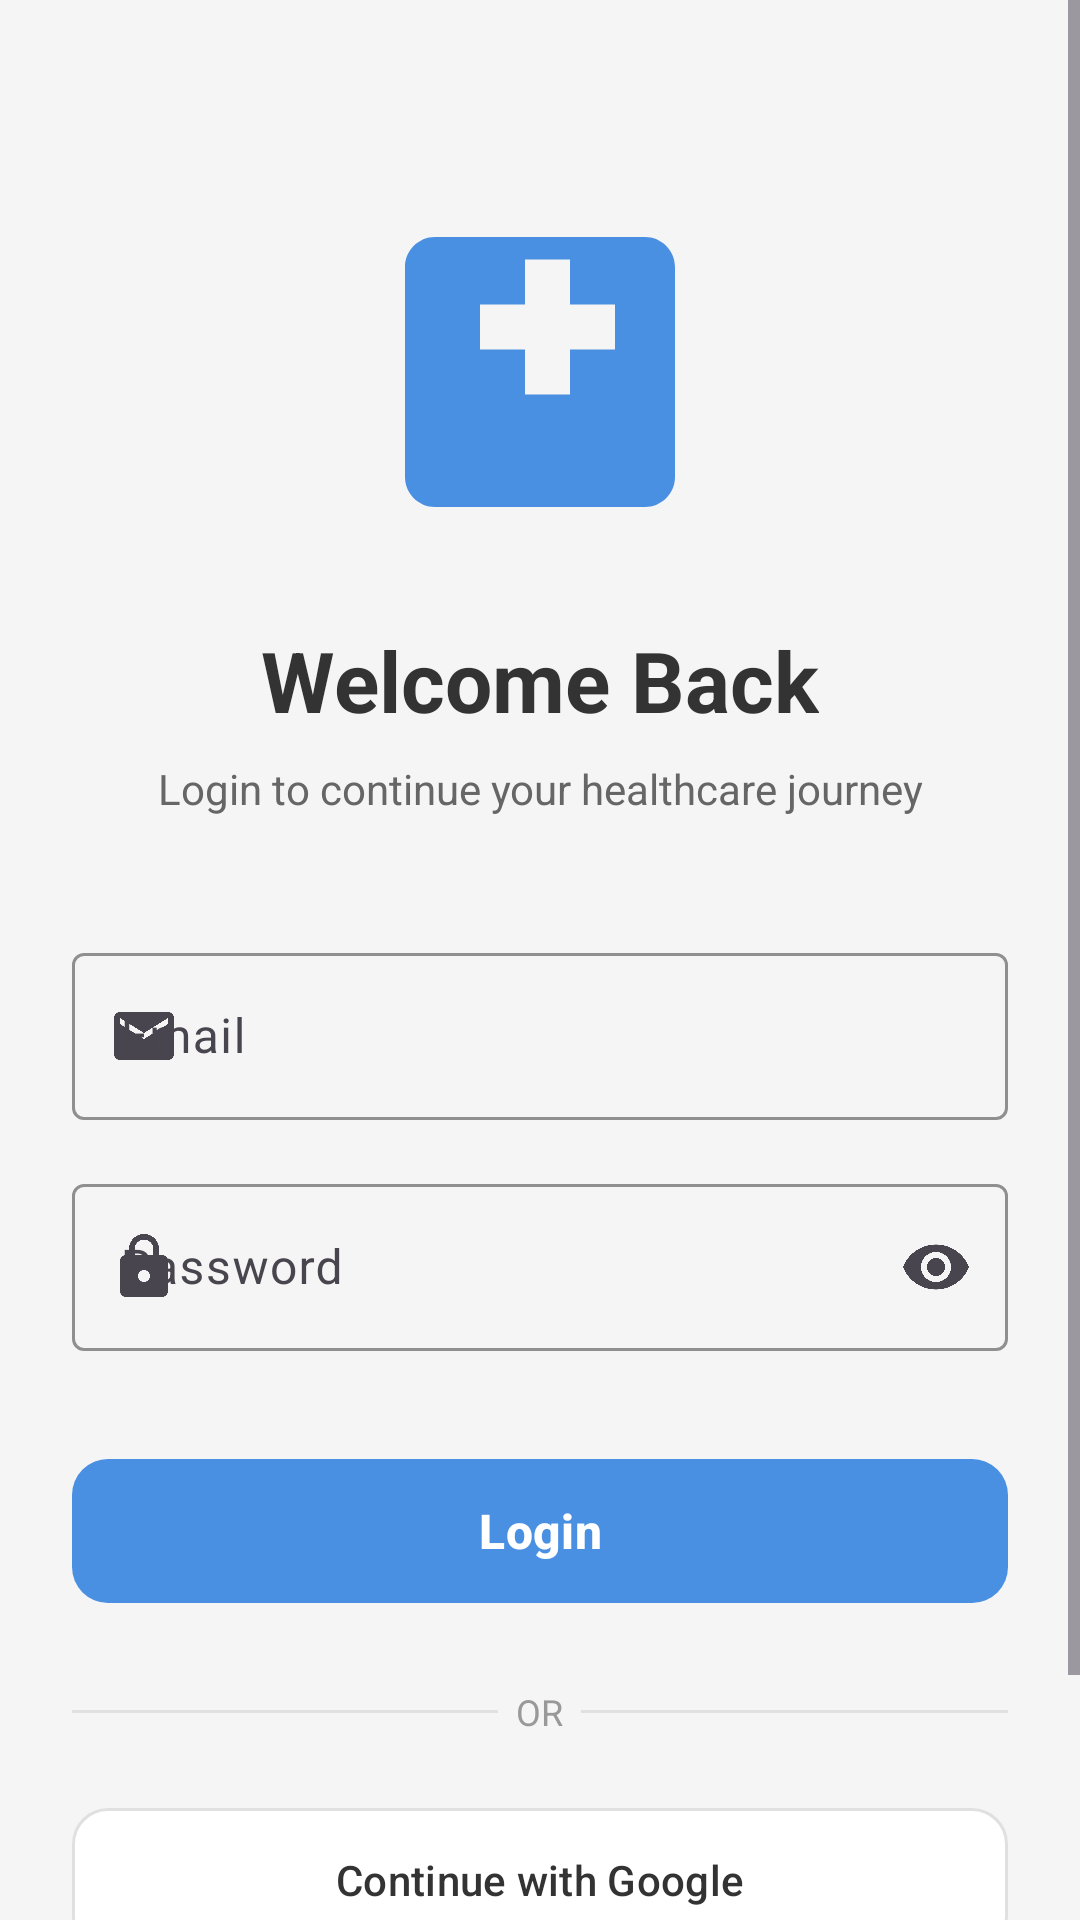

Named icons in this screenshot (1080 x 1920) and their bounding boxes, (x1, y1, x2, y2):
hospital: (405, 237, 675, 507)
